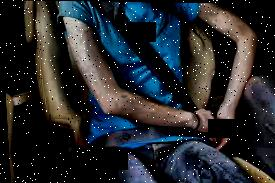seatbelt: (84, 2, 207, 144)
